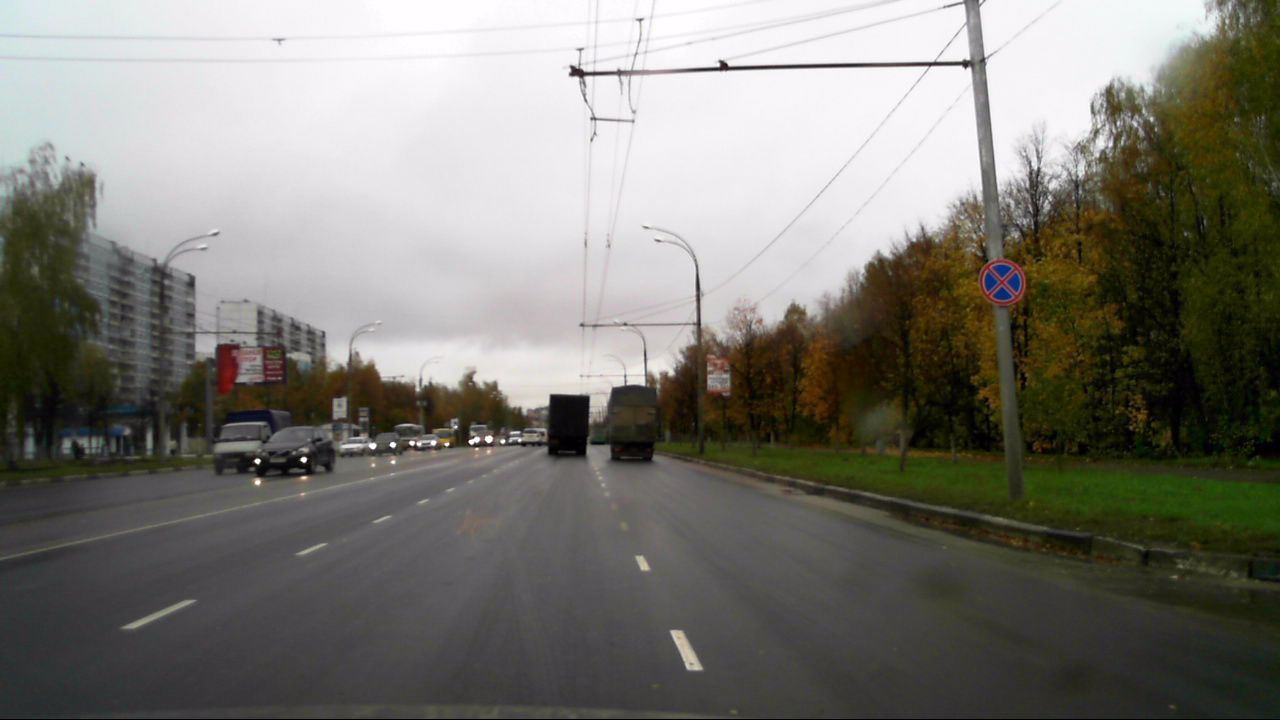No Parking: (978, 258, 1025, 306)
